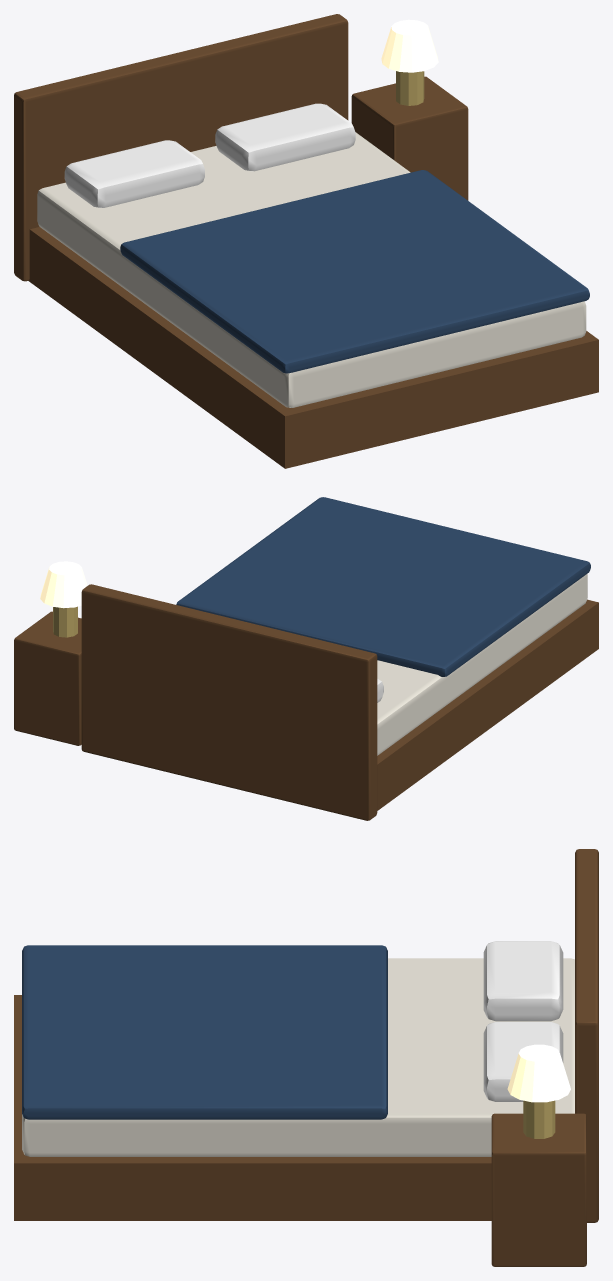
The model's file is bed.glb.
3 views of the same model, one above another, from view 1: azimuth 30°, elevation 25°; view 2: azimuth 150°, elevation 25°; view 3: azimuth 270°, elevation 25° (orthographic). The views are drawn at different scales.
Visible parts, largest first — view 1: part-wood, part-blanket, part-mattress, part-pillow, part-lampshade, part-brass; view 2: part-wood, part-blanket, part-mattress, part-lampshade, part-brass; view 3: part-blanket, part-wood, part-mattress, part-pillow, part-lampshade, part-brass.
Part boxes in pixels (left/top/right/bottom): part-wood: left=14, top=14, right=598, bottom=468; part-blanket: left=120, top=170, right=589, bottom=373; part-mattress: left=37, top=132, right=586, bottom=407; part-pillow: left=64, top=103, right=355, bottom=207; part-lampshade: left=381, top=19, right=438, bottom=72; part-brass: left=396, top=71, right=424, bottom=105; part-wood: left=14, top=584, right=598, bottom=820; part-blanket: left=176, top=497, right=590, bottom=676; part-mattress: left=377, top=574, right=587, bottom=755; part-lampshade: left=40, top=561, right=87, bottom=608; part-brass: left=53, top=606, right=77, bottom=637; part-blanket: left=22, top=945, right=387, bottom=1119; part-wood: left=14, top=849, right=598, bottom=1266; part-mattress: left=22, top=958, right=574, bottom=1156; part-pillow: left=483, top=941, right=563, bottom=1101; part-lampshade: left=507, top=1044, right=570, bottom=1102; part-brass: left=523, top=1100, right=555, bottom=1138.
Bounding box in the file's own units: 65 × 28 × 73.5.
